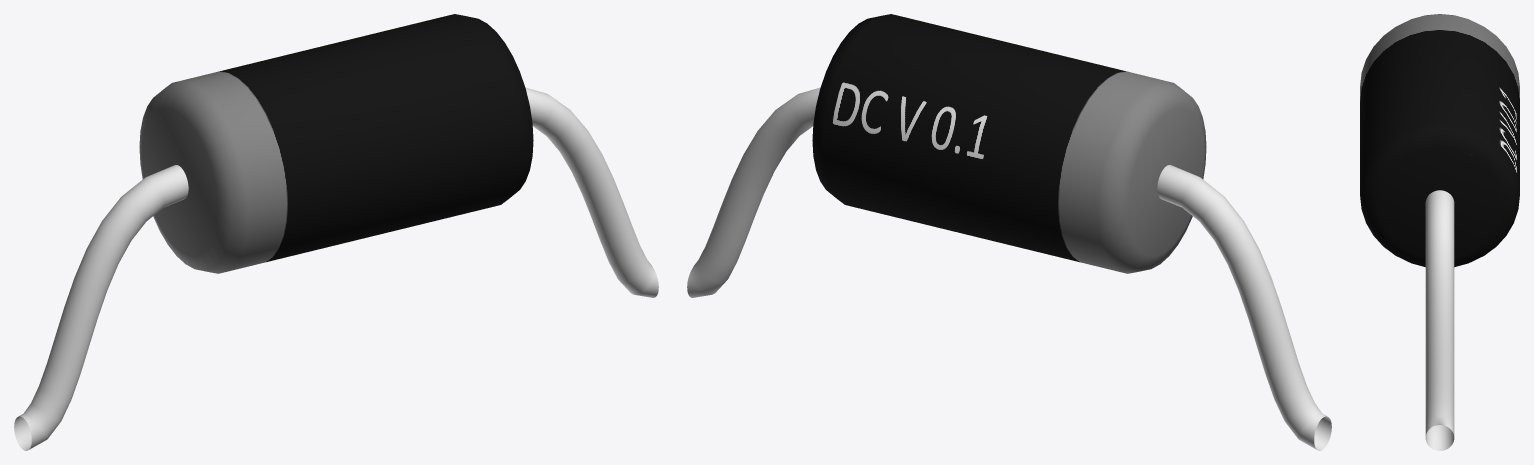
File: Diode.fbx
3 renders of one model, left to right at view 1: azimuth 30°, elevation 25°; view 2: azimuth 150°, elevation 25°; view 3: azimuth 270°, elevation 25°, orthographic. The views are drawn at different scales.
Visible parts, largest first — view 1: Cylinder, BezierCurve; view 2: Cylinder, BezierCurve; view 3: Cylinder, BezierCurve.
Part boxes in pixels (left/top/right/bottom): Cylinder: left=139, top=14, right=533, bottom=273; BezierCurve: left=14, top=87, right=658, bottom=450; Cylinder: left=812, top=14, right=1206, bottom=273; BezierCurve: left=687, top=87, right=1331, bottom=450; Cylinder: left=1360, top=14, right=1519, bottom=267; BezierCurve: left=1425, top=190, right=1454, bottom=450.
Size of the model in its own units: 400 by 194 by 109.
Materials: 1 (1 with a texture image).
